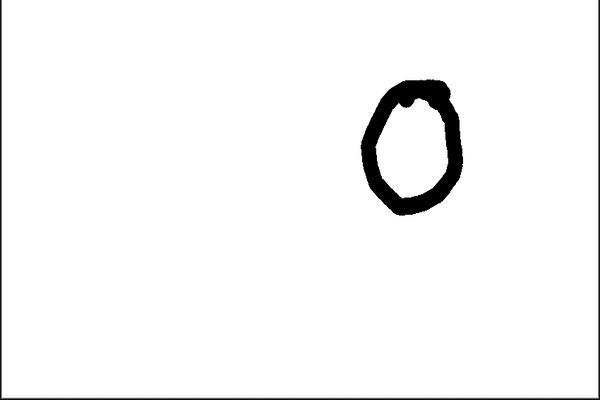O: (346, 68, 466, 221)
